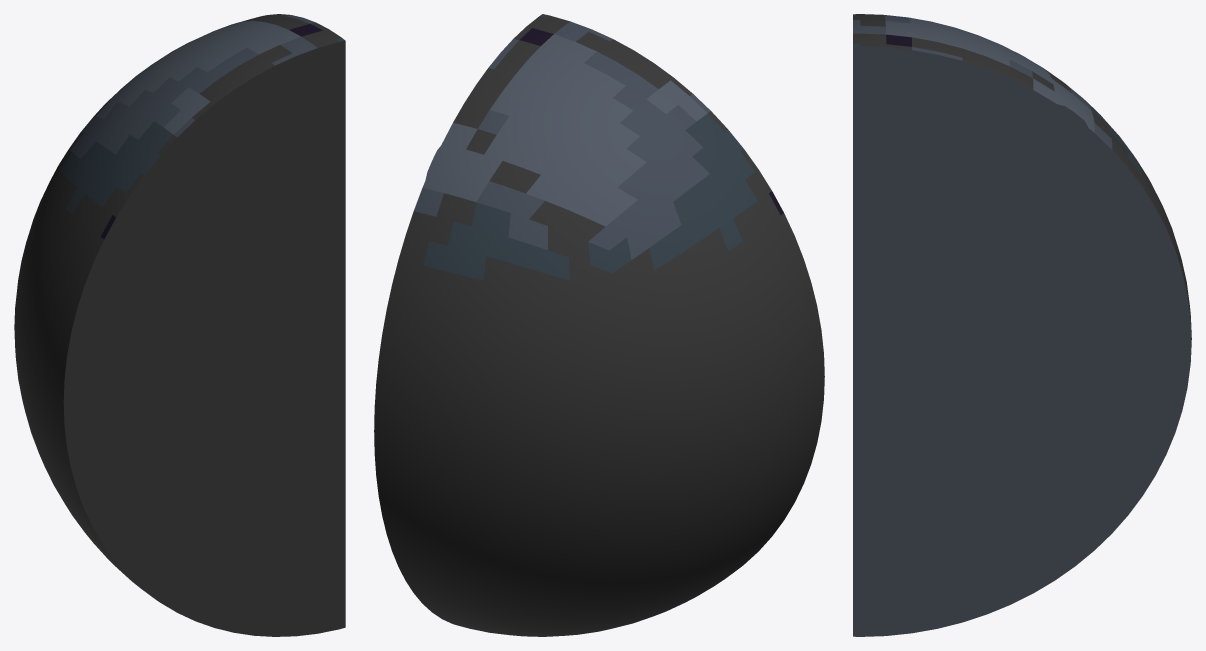
The model's file is newshu-91.glb.
The picture shows the model from 3 angles, left to right: view 1: azimuth 30°, elevation 25°; view 2: azimuth 150°, elevation 25°; view 3: azimuth 270°, elevation 25°; orthographic projection.
Parts seen in each view (by area): view 1: newshu-91; view 2: newshu-91; view 3: newshu-91.
Boxes of the visible parts, left/top/right/bottom form: newshu-91: left=14, top=14, right=345, bottom=636; newshu-91: left=374, top=14, right=824, bottom=636; newshu-91: left=853, top=14, right=1191, bottom=636.
Size of the model in its own units: 1.92 by 3.83 by 1.99.
